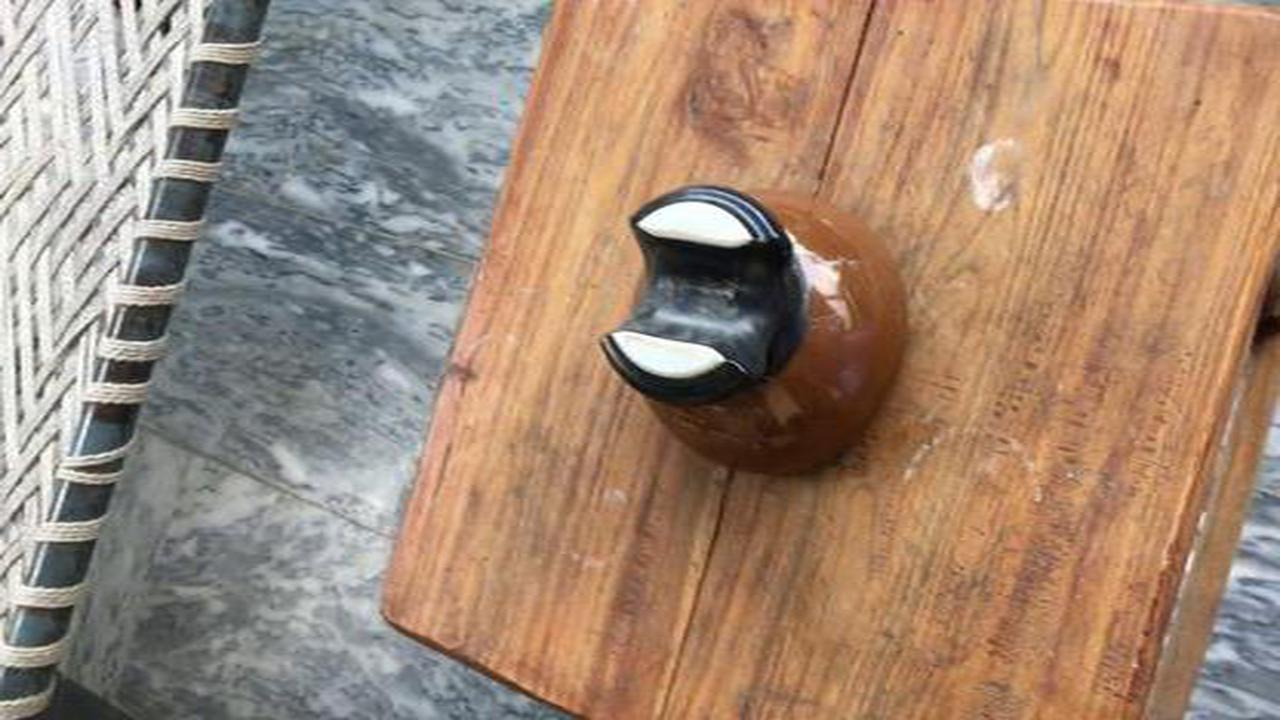insulator_pin: (588, 172, 933, 499)
